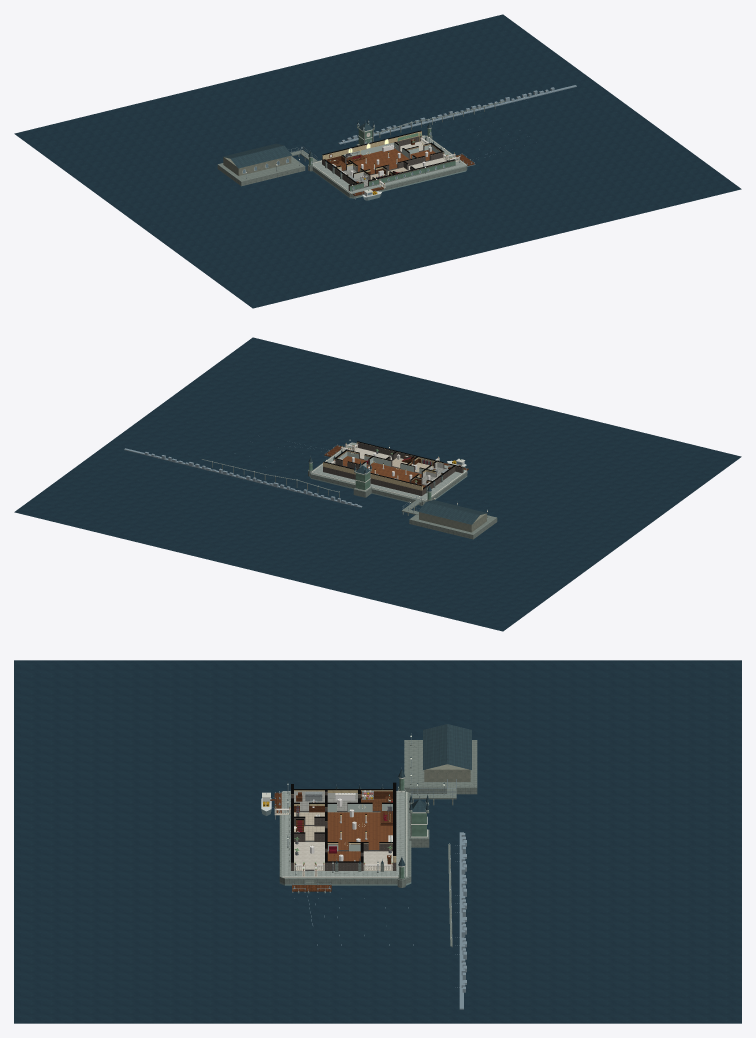
File: ilha.glb
3 views of the same model, one above another, from view 1: azimuth 30°, elevation 25°; view 2: azimuth 150°, elevation 25°; view 3: azimuth 270°, elevation 25° (orthographic). The views are drawn at different scales.
Visible parts, largest first — view 1: Lapa_ilha_water, Lapa_ilha_stone, Lapa_ilha_far, Lapa_ilha_roof, Lapa_parquet, Lapa_stonewall, Lapa_ilha_paving, Lapa_cap, Lapa_ilha_green, Lapa_plaster, Lapa_ilha_warehouse, Lapa_wood; view 2: Lapa_ilha_water, Lapa_ilha_stone, Lapa_stonewall, Lapa_ilha_roof, Lapa_ilha_far, Lapa_ilha_paving, Lapa_cap, Lapa_parquet, Lapa_plaster, Lapa_ilha_warehouse; view 3: Lapa_ilha_water, Lapa_ilha_stone, Lapa_ilha_roof, Lapa_parquet, Lapa_ilha_paving, Lapa_cap, Lapa_ilha_far, Lapa_pedra, Lapa_wood, Lapa_stonewall, Lapa_ilha_warehouse, Lapa_ilha_iron (+1 smaller).
Part boxes in pixels (box(x1,y1,x2,y2)): Lapa_ilha_water: box(14, 14, 741, 308); Lapa_ilha_stone: box(217, 101, 505, 197); Lapa_ilha_far: box(338, 85, 576, 144); Lapa_ilha_roof: box(222, 119, 459, 184); Lapa_parquet: box(346, 148, 435, 174); Lapa_stonewall: box(322, 135, 455, 191); Lapa_ilha_paving: box(313, 136, 466, 193); Lapa_cap: box(322, 130, 454, 185); Lapa_ilha_green: box(309, 127, 455, 190); Lapa_plaster: box(322, 131, 440, 182); Lapa_ilha_warehouse: box(223, 156, 291, 175); Lapa_wood: box(326, 139, 474, 195); Lapa_ilha_water: box(14, 337, 741, 631); Lapa_ilha_stone: box(202, 442, 497, 539); Lapa_stonewall: box(323, 442, 463, 495); Lapa_ilha_roof: box(308, 446, 487, 524); Lapa_ilha_far: box(124, 448, 362, 507); Lapa_ilha_paving: box(312, 442, 466, 499); Lapa_cap: box(323, 441, 462, 489); Lapa_parquet: box(342, 456, 421, 482); Lapa_plaster: box(323, 442, 462, 490); Lapa_ilha_warehouse: box(419, 512, 486, 532); Lapa_ilha_water: box(14, 660, 741, 1023); Lapa_ilha_stone: box(279, 740, 477, 947); Lapa_ilha_roof: box(287, 724, 471, 866); Lapa_parquet: box(327, 812, 392, 861); Lapa_ilha_paving: box(281, 791, 404, 877); Lapa_cap: box(291, 782, 396, 862); Lapa_ilha_far: box(459, 832, 466, 1009); Lapa_pedra: box(294, 842, 392, 869); Lapa_wood: box(270, 791, 392, 891); Lapa_stonewall: box(291, 791, 396, 870); Lapa_ilha_warehouse: box(424, 764, 470, 781); Lapa_ilha_iron: box(266, 733, 456, 945).
Bounding box in the file's own units: 130 × 8.95 × 110.
Materials: 65 (22 with a texture image).
